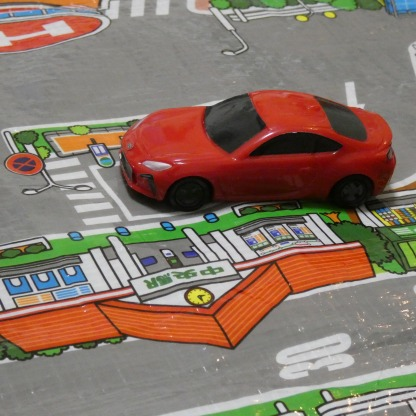car: (116, 88, 397, 210)
